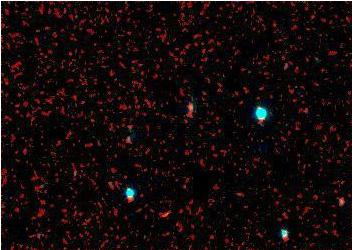star: (151, 197, 181, 227)
